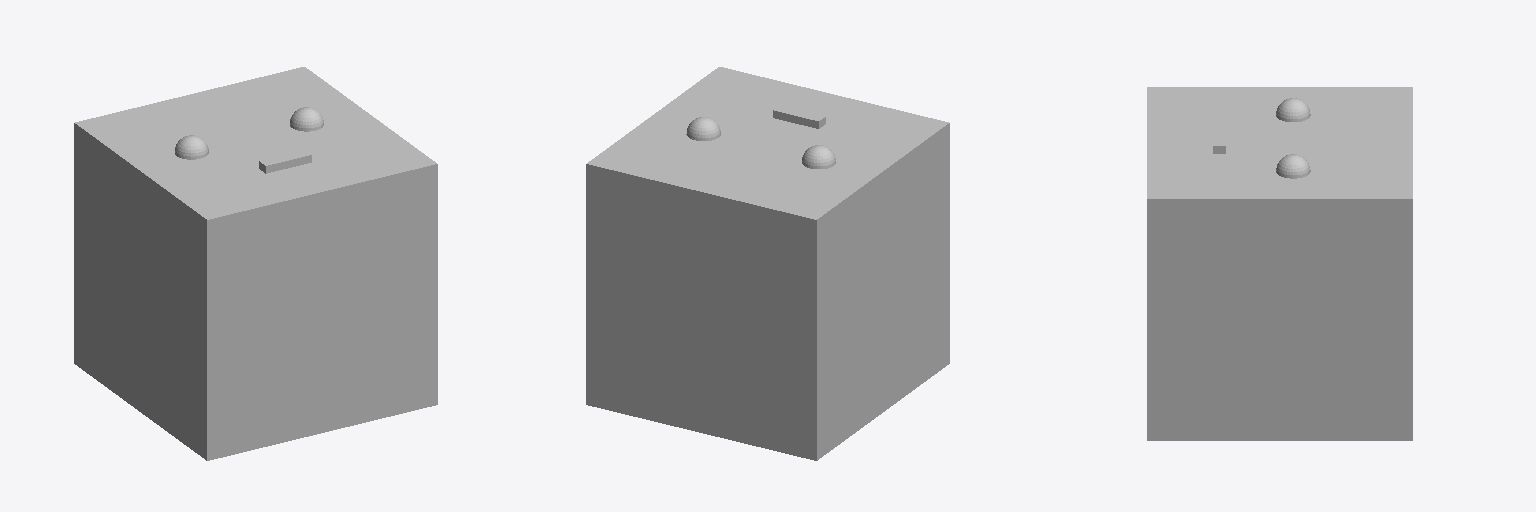
Rendered from CuteCube.obj.
The picture shows the model from 3 angles: view 1: azimuth 30°, elevation 25°; view 2: azimuth 150°, elevation 25°; view 3: azimuth 270°, elevation 25°; orthographic projection.
Parts seen in each view (by area): view 1: Cube_Cube.001, Cube.001_Cube.002, Sphere, Sphere.001; view 2: Cube_Cube.001, Cube.001_Cube.002, Sphere, Sphere.001; view 3: Cube_Cube.001, Sphere.001, Sphere.
Part boxes in pixels (x1,y1,x2,y2): Cube_Cube.001: (74, 67, 437, 460); Cube.001_Cube.002: (259, 150, 311, 173); Sphere: (175, 135, 208, 159); Sphere.001: (290, 107, 323, 131); Cube_Cube.001: (586, 67, 949, 460); Cube.001_Cube.002: (773, 105, 825, 128); Sphere: (802, 145, 835, 168); Sphere.001: (686, 117, 720, 140); Cube_Cube.001: (1147, 87, 1412, 440); Sphere.001: (1276, 154, 1310, 178); Sphere: (1276, 98, 1310, 121).
Size of the model in its own units: 2 by 2.13 by 2.